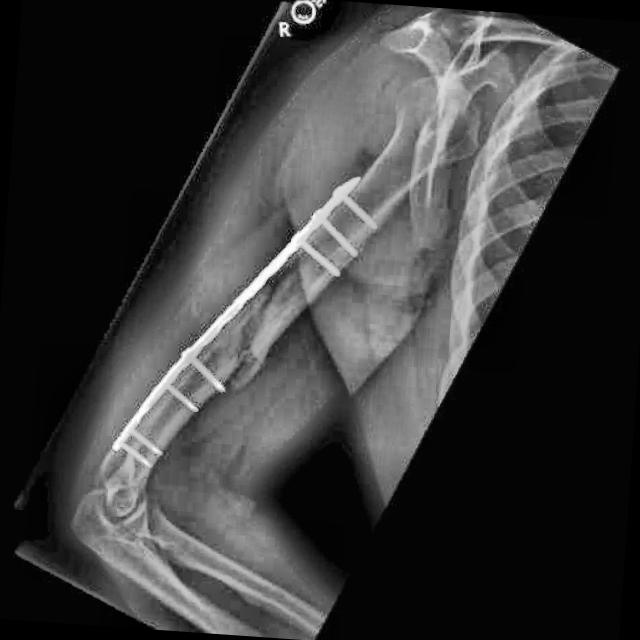humerus: (205, 271, 316, 411)
